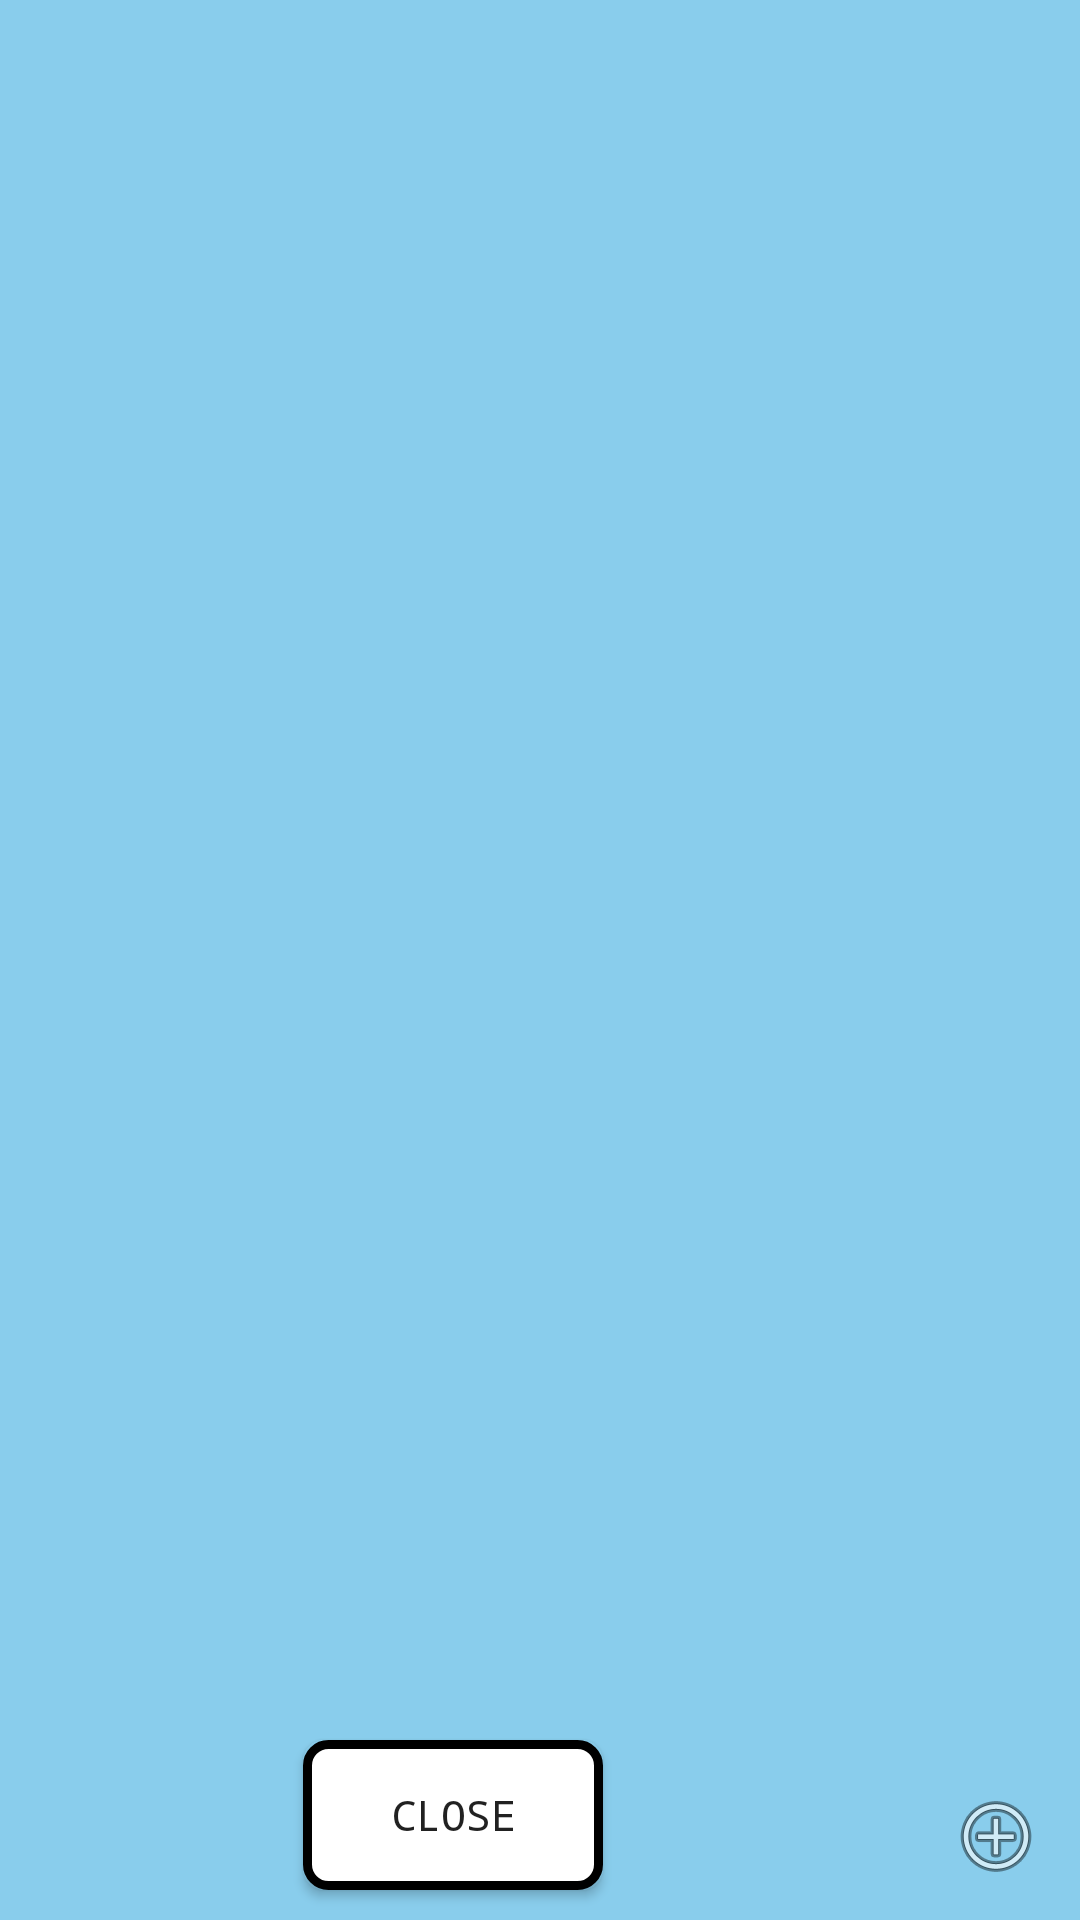

Named icons in this screenshot (1080px x 1920px) and their bounding boxes, (x1, y1, x2, y2):
add: (960, 1801, 1032, 1872)
